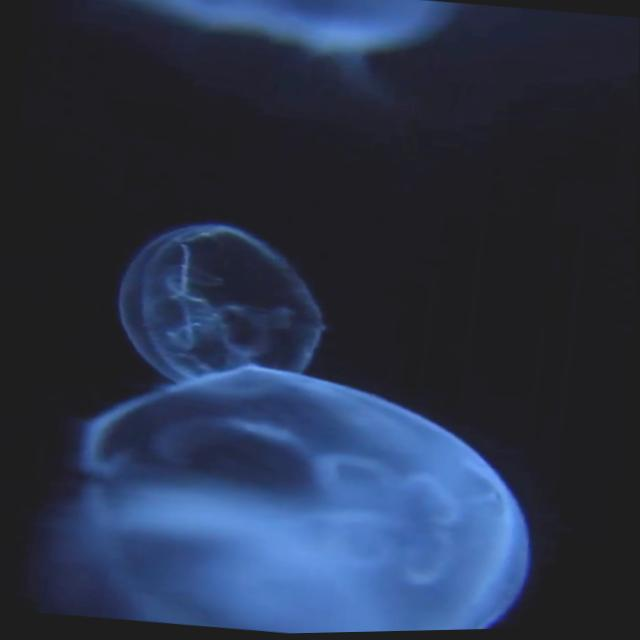Moon-jellyfish: (0, 361, 529, 635), (110, 219, 323, 385)
